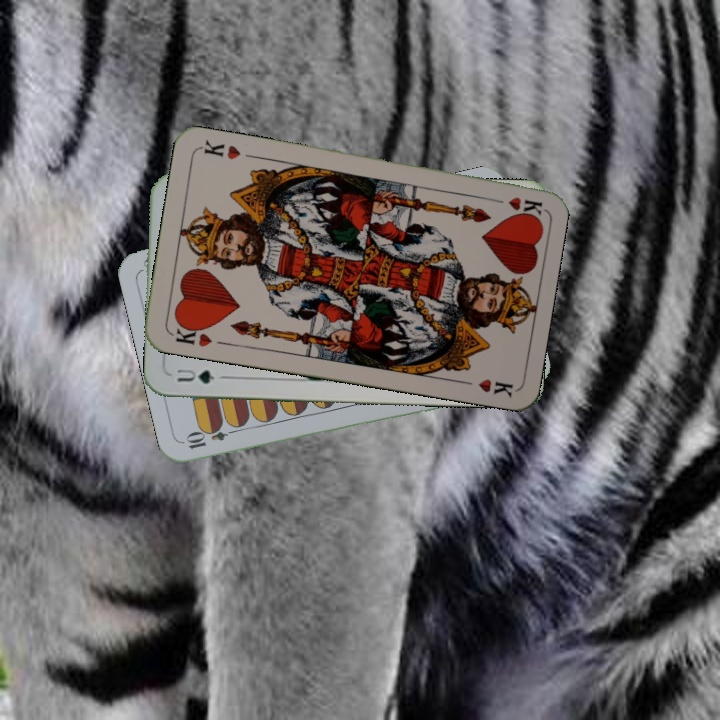E10: (182, 423, 241, 452)
GU: (172, 365, 217, 386)
HK: (484, 192, 544, 217), (168, 319, 215, 349)
